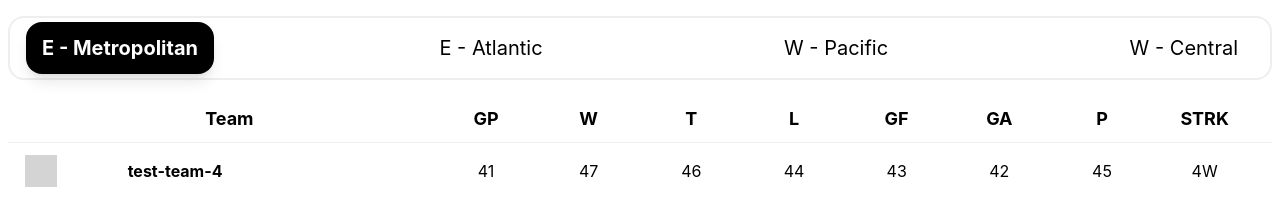
Scenario: tabs work
The width and height of the screenshot is (1280, 204).
Expected: the text "test-team-4" is shown, [127, 158, 435, 184]
Click the tab "E - Atlantic": (491, 48) [423, 22, 558, 74]
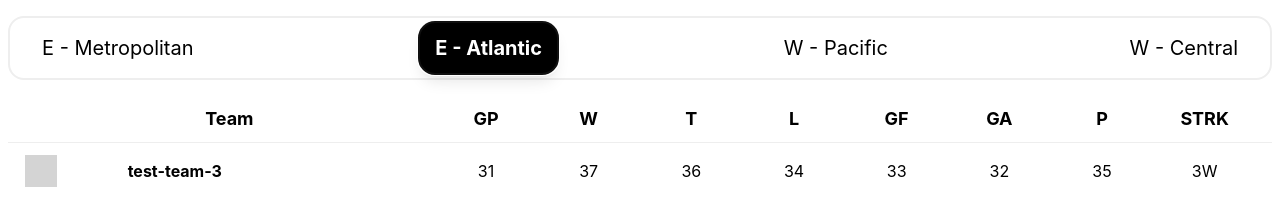
Expected: the text "test-team-3" is shown, [127, 158, 435, 184]
